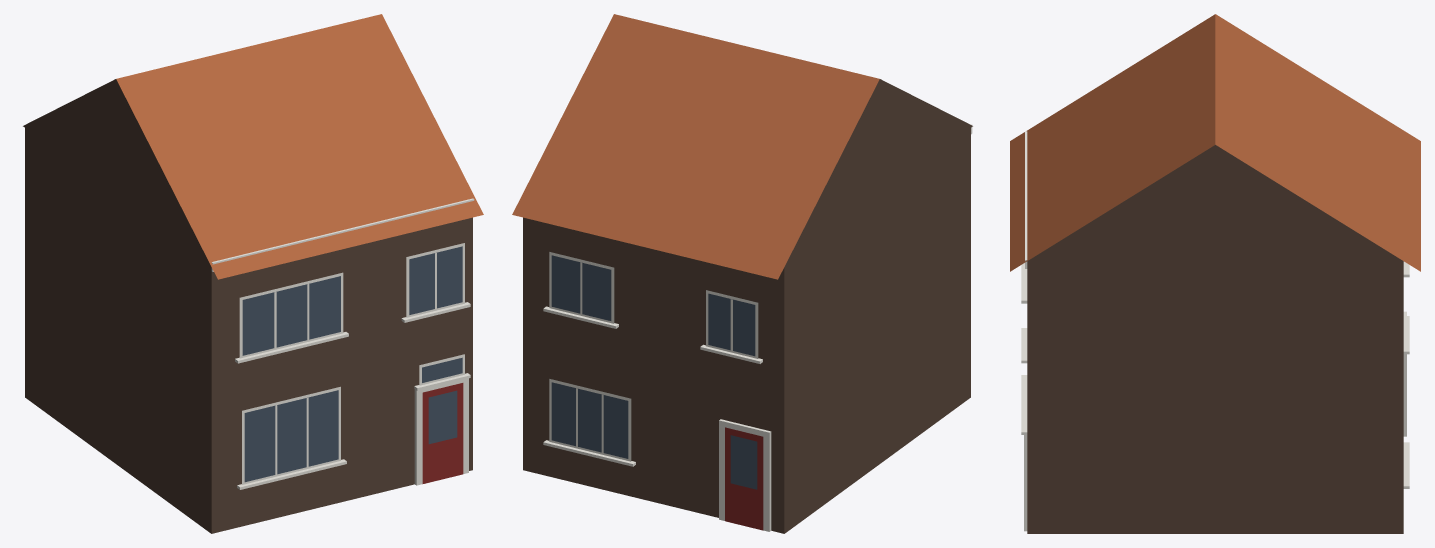
File: nd-to-row__wide-orange__2__gable__long__solid__f1d0__mirror.glb
3 renders of one model, left to right at view 1: azimuth 30°, elevation 25°; view 2: azimuth 150°, elevation 25°; view 3: azimuth 270°, elevation 25°, orthographic.
Parts seen in each view (by area): view 1: nd-to-row__wide-orange__2__gable__long__solid__f1d0__mirror; view 2: nd-to-row__wide-orange__2__gable__long__solid__f1d0__mirror; view 3: nd-to-row__wide-orange__2__gable__long__solid__f1d0__mirror.
Part boxes in pixels (x1,y1,x2,y2): nd-to-row__wide-orange__2__gable__long__solid__f1d0__mirror: [23, 14, 483, 533]; nd-to-row__wide-orange__2__gable__long__solid__f1d0__mirror: [512, 14, 972, 533]; nd-to-row__wide-orange__2__gable__long__solid__f1d0__mirror: [1010, 14, 1420, 533].
Bounding box in the file's own units: 6.22 × 8.66 × 8.26.
